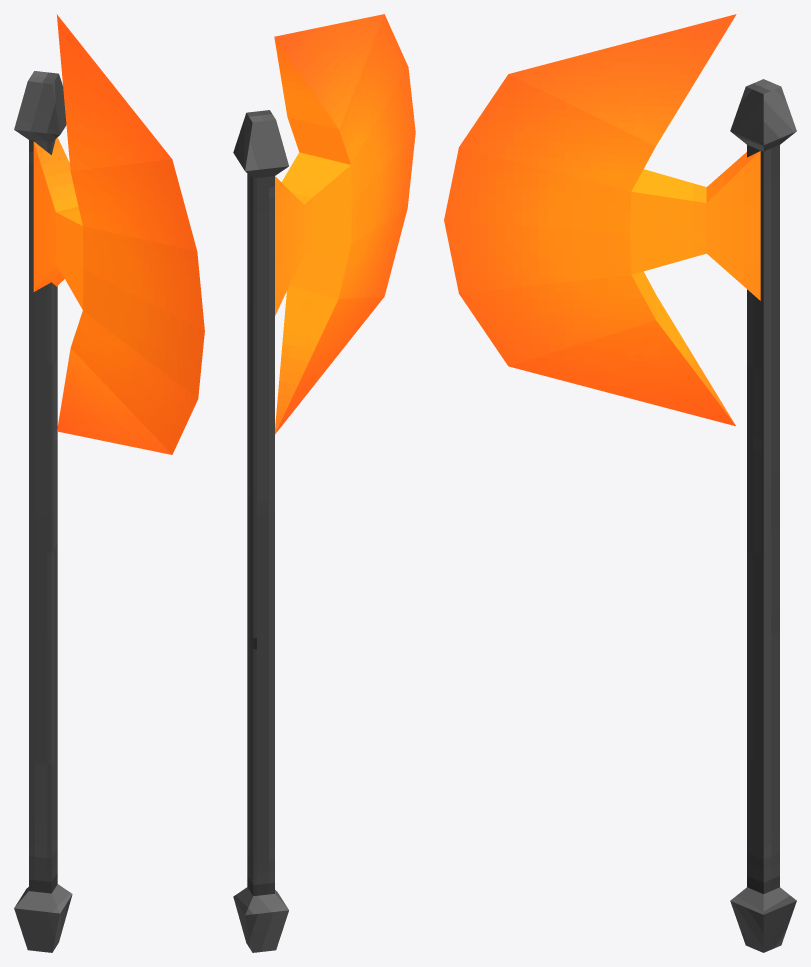
The model's file is axe.glb.
3 views of the same model, side by side, from view 1: azimuth 30°, elevation 25°; view 2: azimuth 150°, elevation 25°; view 3: azimuth 270°, elevation 25° (orthographic). The views are drawn at different scales.
Visible parts, largest first — view 1: Cube; view 2: Cube; view 3: Cube.
Boxes of the visible parts, x1,y1,x2,y2 form: Cube: (14, 14, 204, 952); Cube: (233, 14, 415, 952); Cube: (444, 14, 796, 952).
Size of the model in its own units: 0.0424 by 0.6511 by 0.2236.
Materials: 2 (2 with a texture image).
